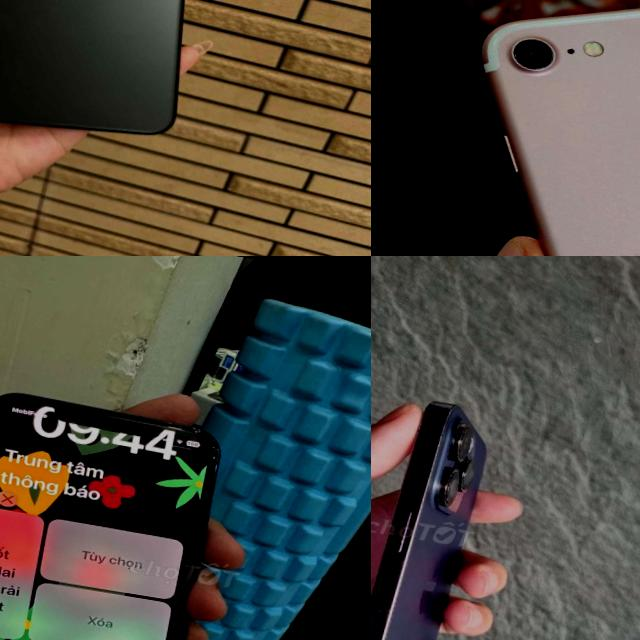gen_11: (0, 373, 231, 640), (0, 0, 227, 162)
gen_14: (371, 377, 500, 640)
gen_7_8: (405, 0, 640, 256)
